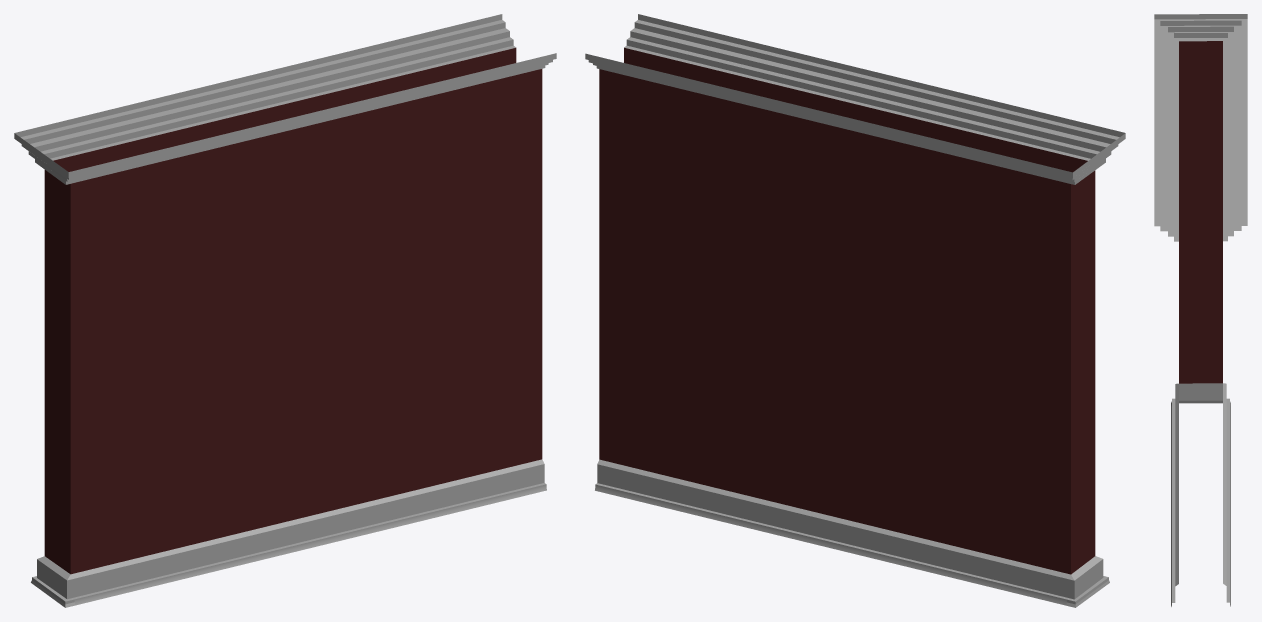
The model's file is ContemporaryTwoSideEdgeWall.fbx.
3 views of the same model, side by side, from view 1: azimuth 30°, elevation 25°; view 2: azimuth 150°, elevation 25°; view 3: azimuth 270°, elevation 25° (orthographic). The views are drawn at different scales.
Parts seen in each view (by area): view 1: WallOneSide8; view 2: WallOneSide8; view 3: WallOneSide8.
Boxes of the visible parts, bbox=[...] form: WallOneSide8: bbox=[14, 14, 556, 607]; WallOneSide8: bbox=[585, 14, 1125, 607]; WallOneSide8: bbox=[1154, 14, 1247, 606].
Size of the model in its own units: 4.14 by 3.6 by 0.7887.
